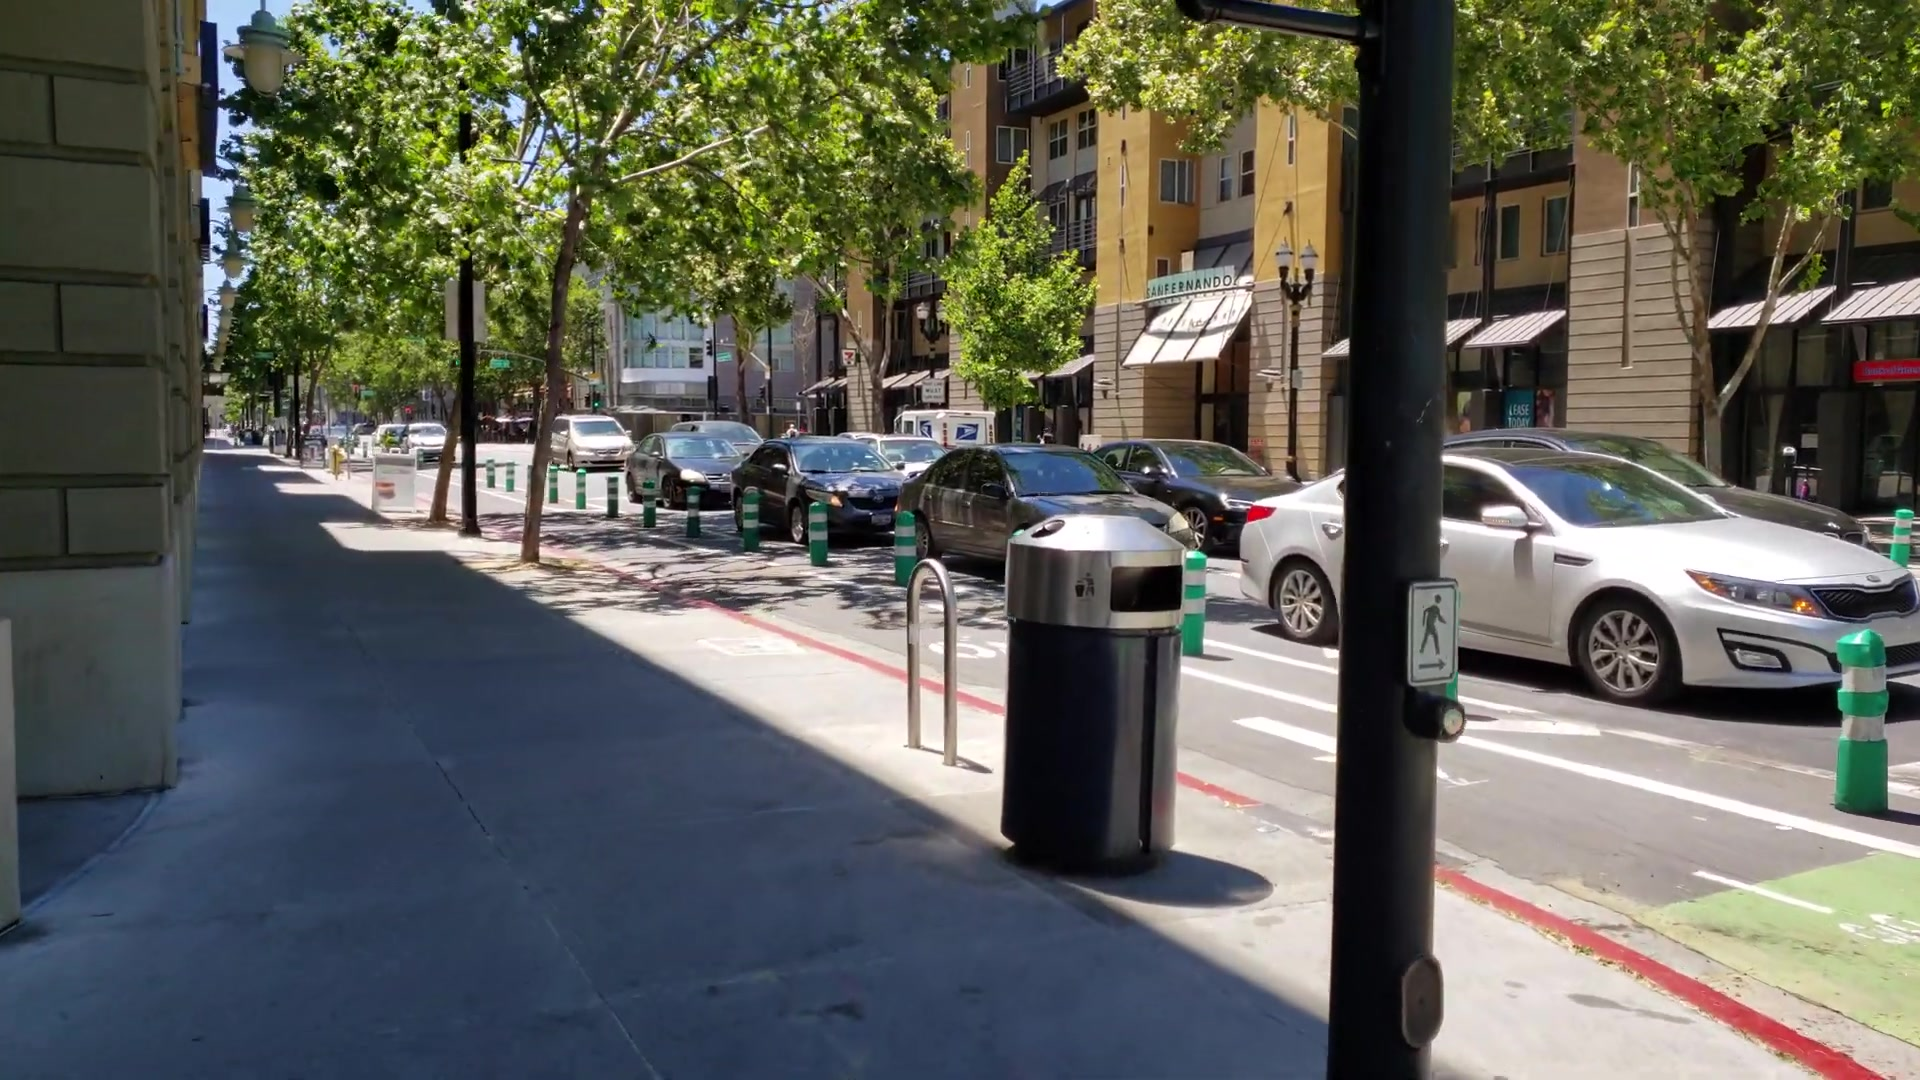vehicle: (1240, 448, 1917, 700), (737, 436, 898, 527), (624, 435, 731, 510), (553, 415, 636, 467)
